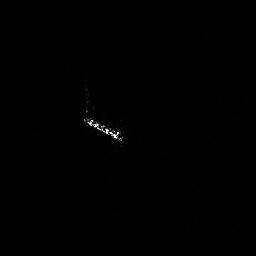ship: (79, 113, 126, 145)
